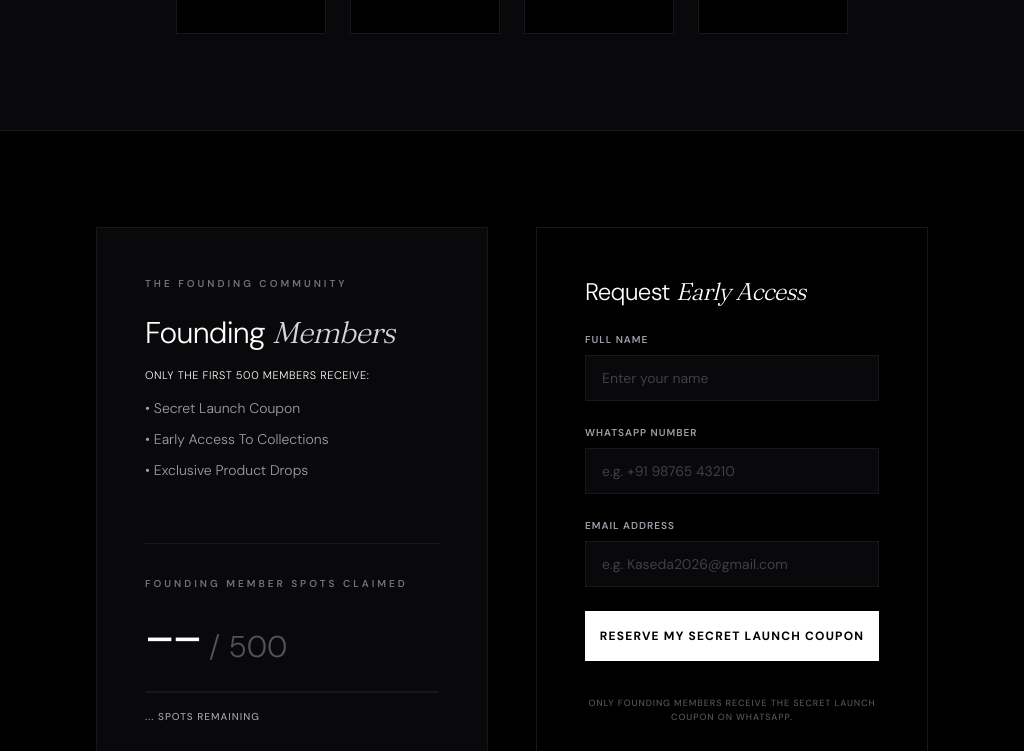
Test case: Home Page Unit Tests › Registration Form Validation & State › displays validation error for invalid email
(page scrolled)
Step 1. Type "John Doe" into the field labelled "Full Name" → (732, 378), box [585,355,879,401]
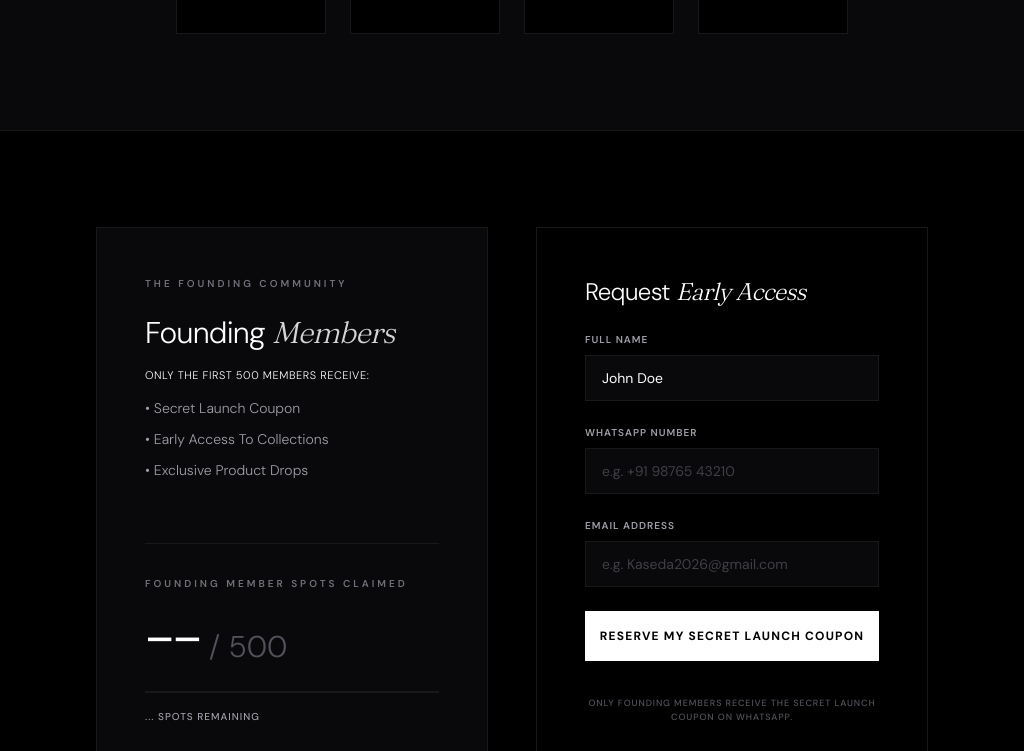
Step 2. Type "+919876543210" into the field labelled "WhatsApp Number" → (732, 471), box [585,448,879,494]
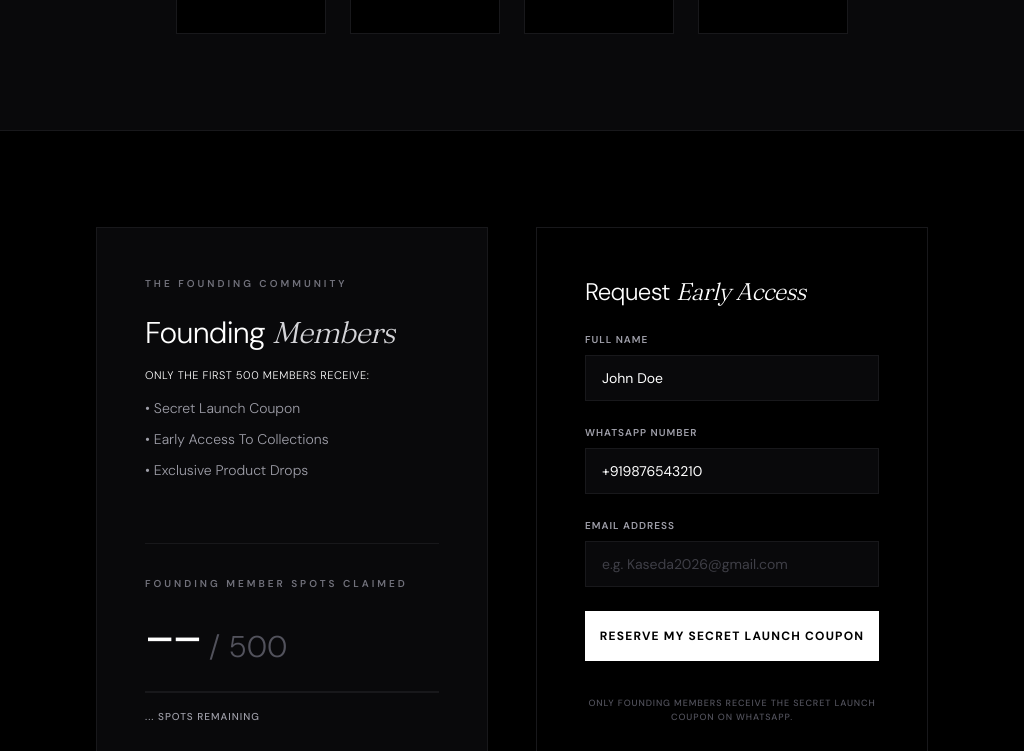
Step 3. Type "not-an-email" into the field labelled "Email Address" → (732, 564), box [585,541,879,587]
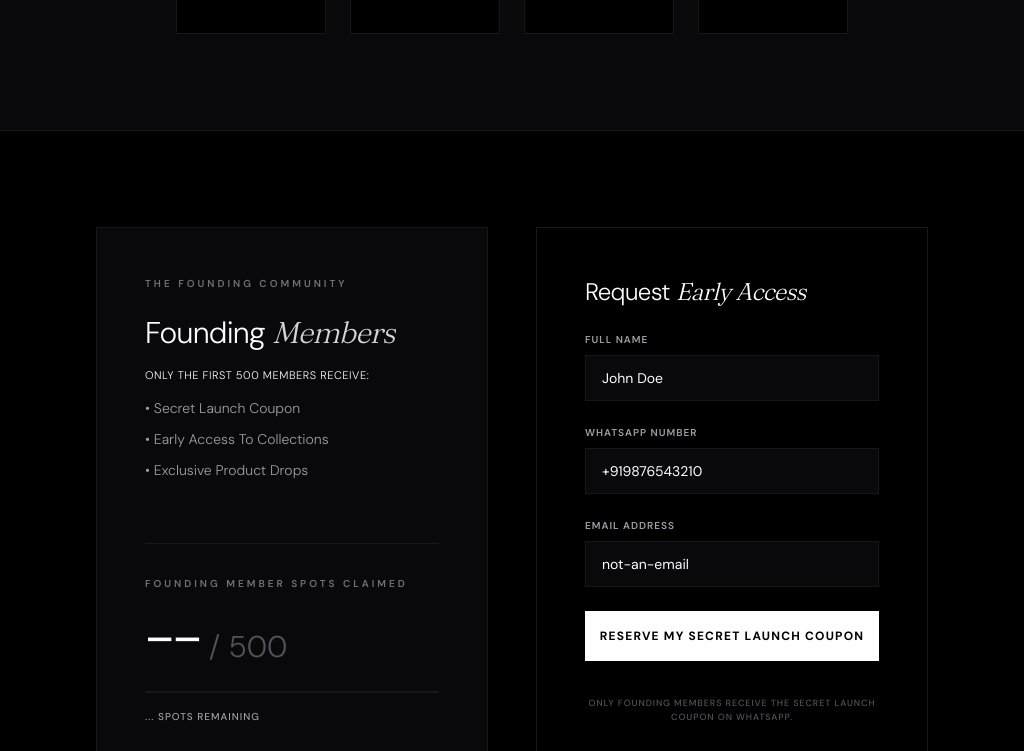
Step 4. Submit the text "Reserve My Secret Launch Coupon", box [585,332,879,724]
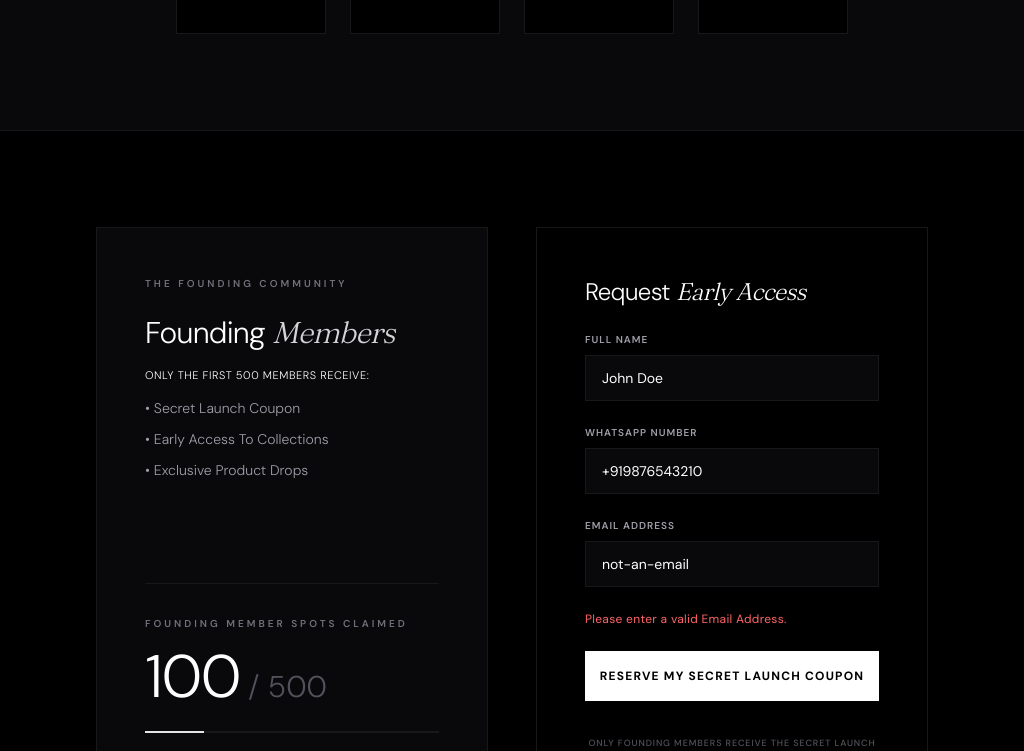
expect the text "Please enter a valid Email Address." is shown: met, box [585,611,787,627]
